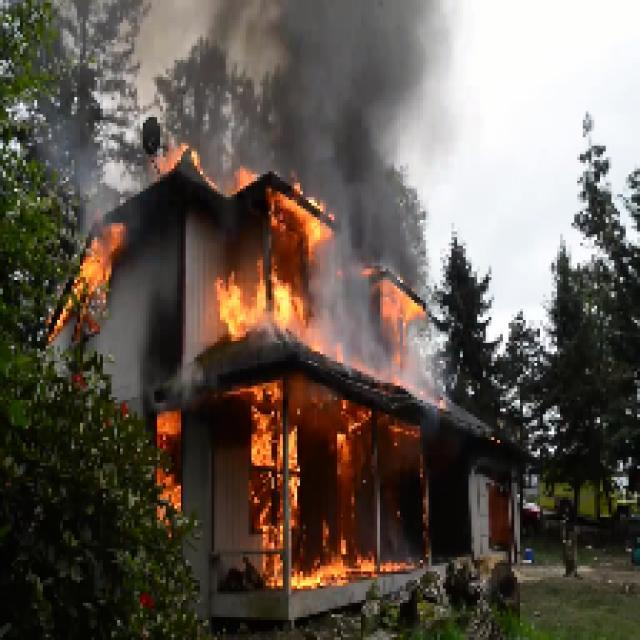Fire: (240, 388, 366, 592), (212, 184, 331, 348), (54, 224, 126, 329), (374, 282, 429, 335)
Smoke: (68, 0, 465, 134)
